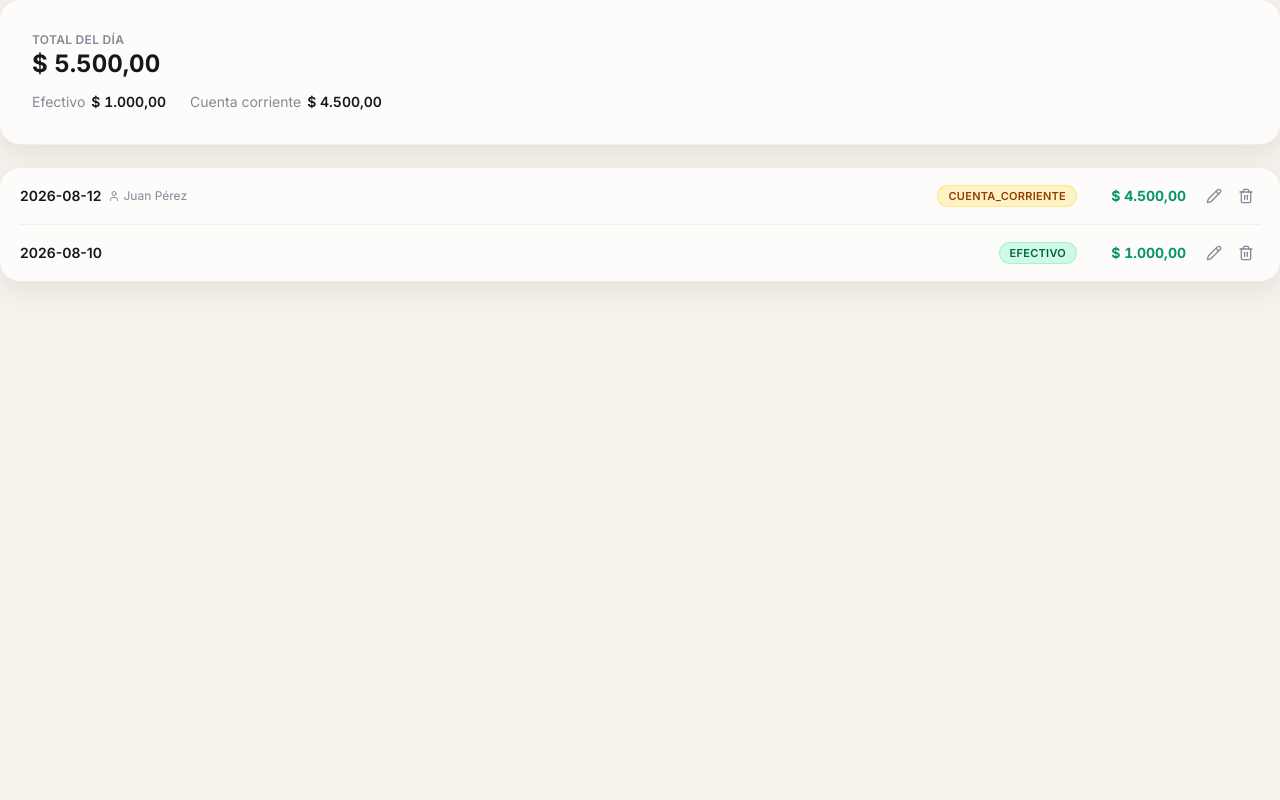
VentasList — cancelling the debt warning sends no request (task 8.3) › closes the dialog and leaves the sale unchanged
The image size is (1280, 800).
Expected: the text "Juan Pérez" is shown, top-left (108, 188), bottom-right (187, 204)
Click the button named "eliminar venta venta-2".
click(1246, 196)  # box top-left (1232, 182), bottom-right (1260, 210)
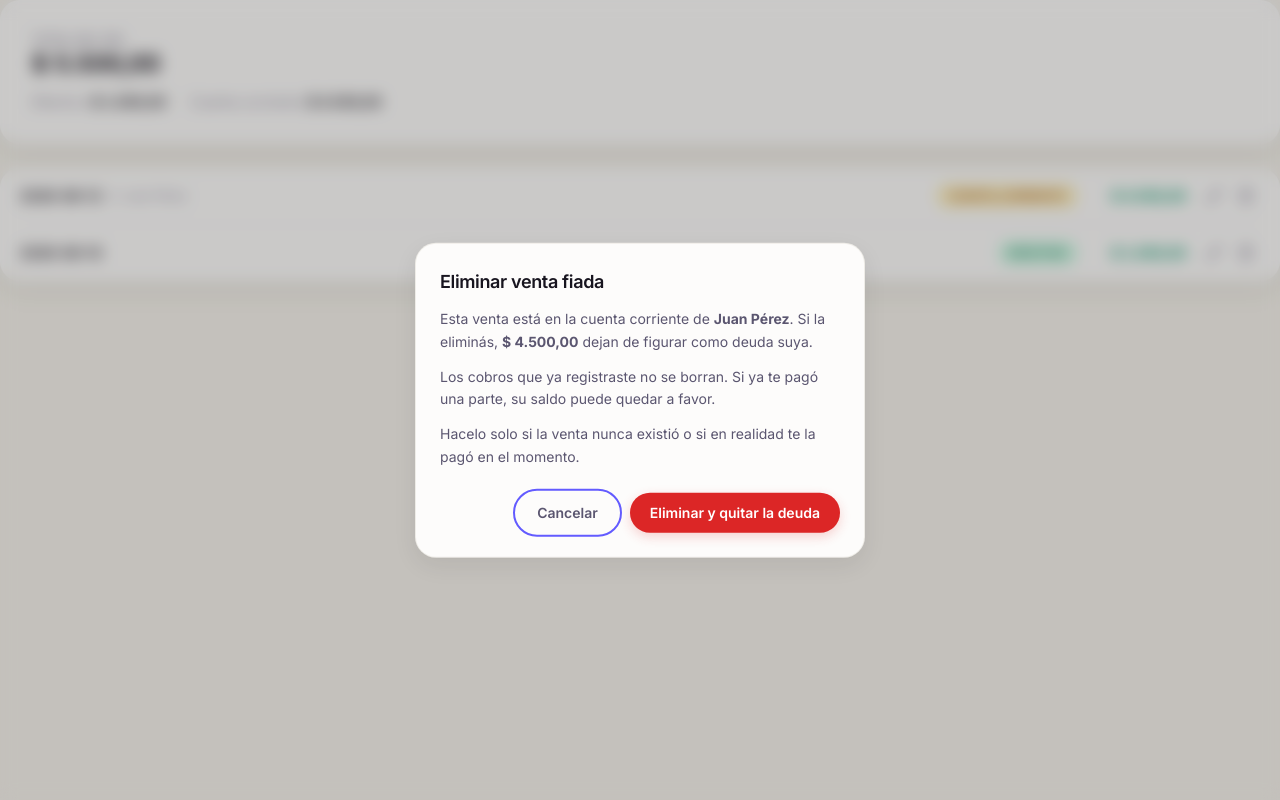
Expected: the dialog is shown, top-left (416, 244), bottom-right (864, 556)
Click the button with test id "deuda-dialog-cancel".
click(567, 512)  # box top-left (517, 492), bottom-right (618, 532)
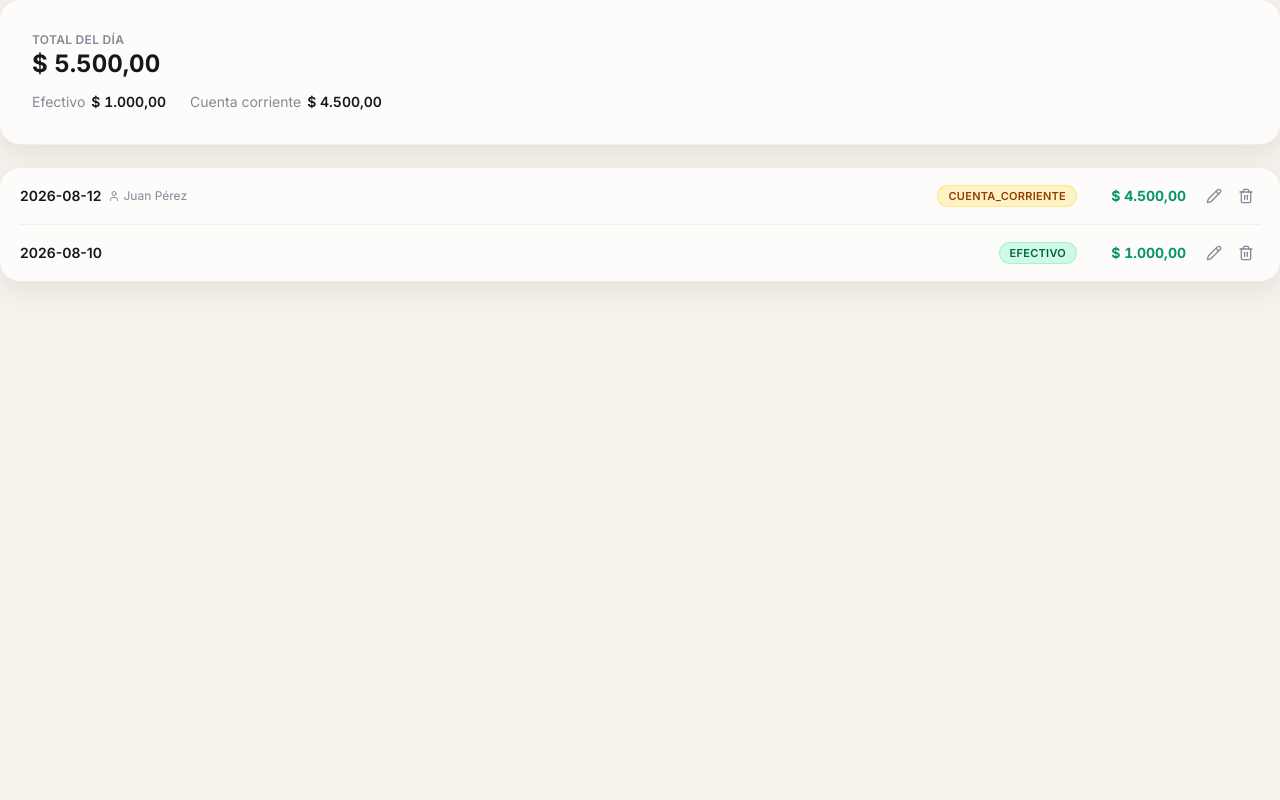
Expected: the dialog is gone
